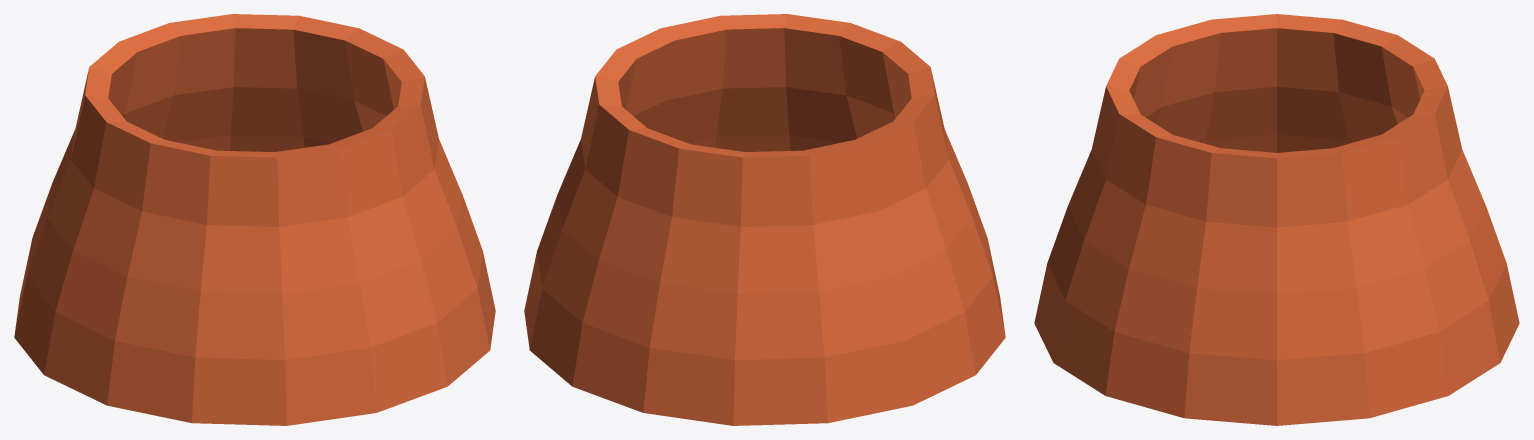
Rendered from cuerpo2.fbx.
3 renders of one model, left to right at view 1: azimuth 30°, elevation 25°; view 2: azimuth 150°, elevation 25°; view 3: azimuth 270°, elevation 25°, orthographic.
Visible parts, largest first — view 1: Medio1; view 2: Medio1; view 3: Medio1.
Part boxes in pixels (x1=…): Medio1: x1=14, y1=14, x2=495, y2=425; Medio1: x1=524, y1=14, x2=1005, y2=425; Medio1: x1=1034, y1=14, x2=1519, y2=425.
Bounding box in the file's own units: 16.35 × 8.98 × 16.35.
1 material, 1 textured.
